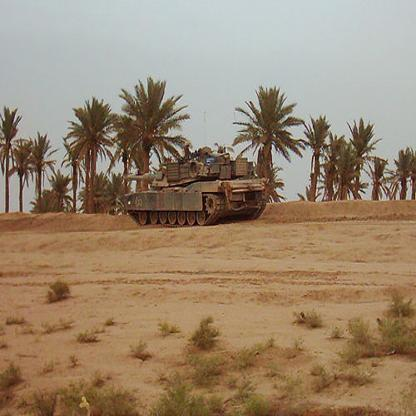Tank: (116, 143, 271, 234)
